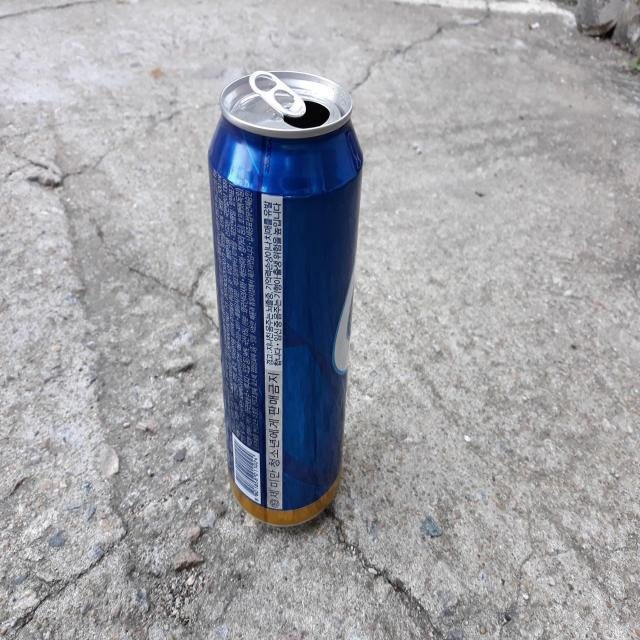can: (208, 69, 363, 526)
